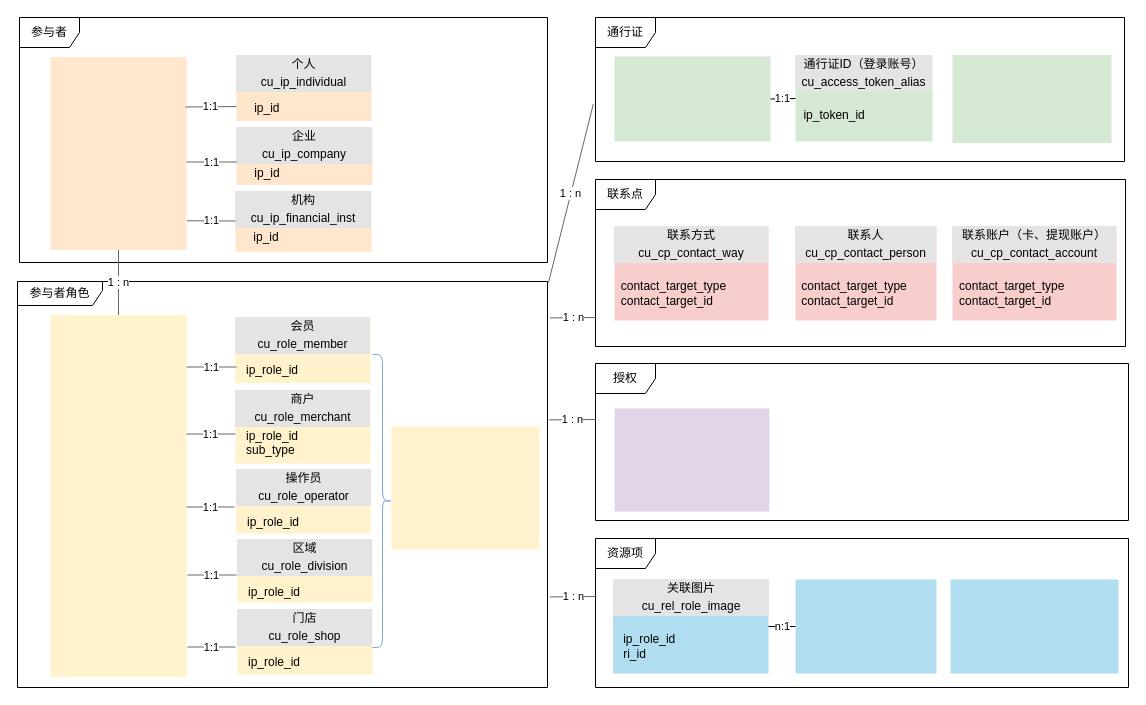
Some shapes in this 1146 by 705 pixel diagram are drawn without their labels. The centre of each missing label's shape, as x and y in pixels:
关联外部系统账号 cu_rel_role_site_acc ip_role_id rel_biz_type: [1034,626]
参与者 cu_involved_party ip_id ip_type: [118,153]
参与者角色 cu_involved_party_role ip_role_id ip_role_type ip_id ip_token_id: [118,495]
图片 cu_ri_image ri_id img_type: [865,626]
授权信息（合约、资金账户） cu_authorization ip_role_id auth_target_type auth_target_id: [691,459]
角色关联关系 cu_rel_ip_role_to_ip_role rel_biz_type from_ip_role_id to_ip_role_id: [465,487]
识别（密码） cu_identification ident_target_type ident_target_id: [1031,98]
通行证（登录token） cu_access_token ip_token_id: [692,98]
